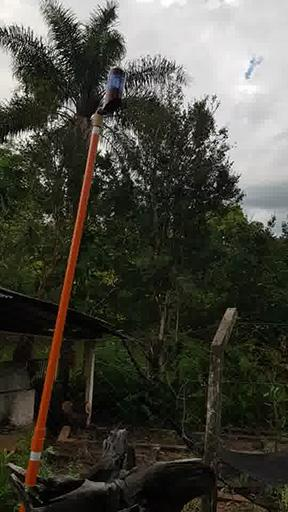Detector_Tensao_Contato: (102, 52, 125, 115)
Vara_Manobra: (20, 117, 102, 512)
